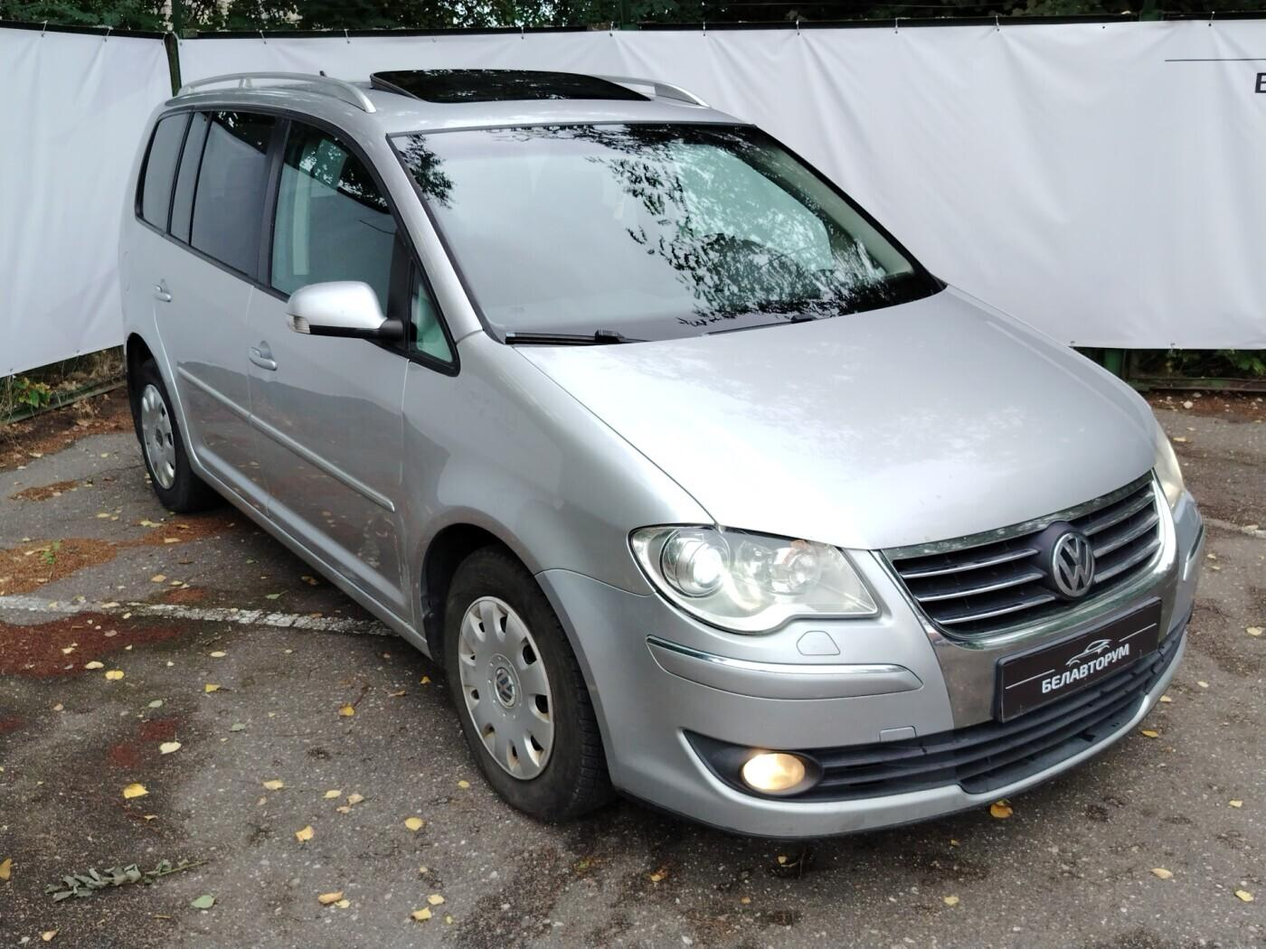Touran_2006-2010: (111, 66, 1201, 847)
